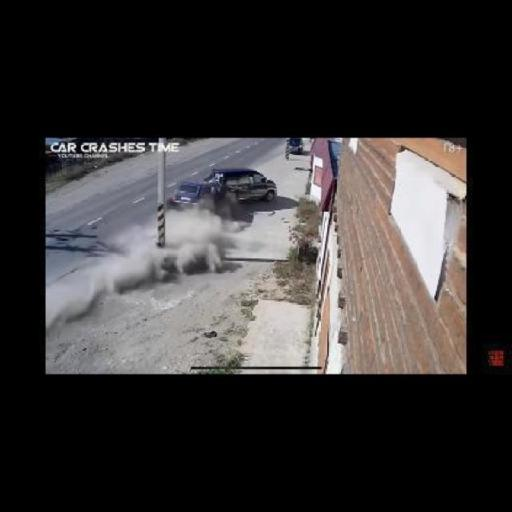小汽车: (282, 135, 312, 156)
小汽车撞小汽车: (165, 166, 279, 230)
